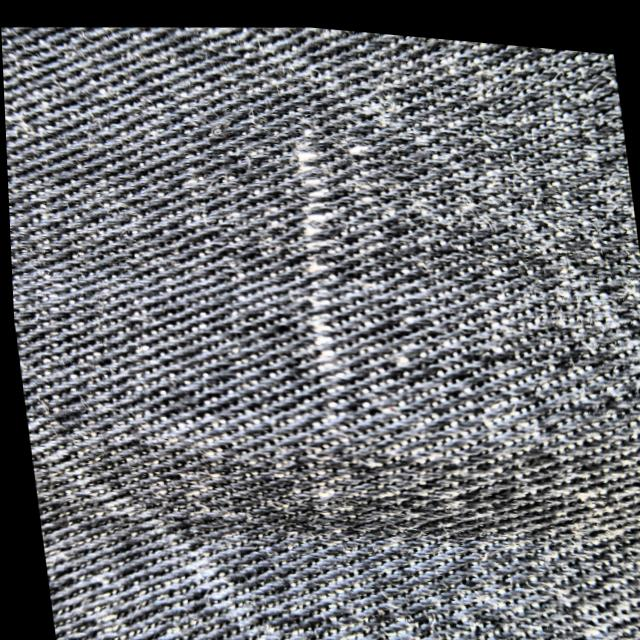Hole: (290, 138, 328, 358)
